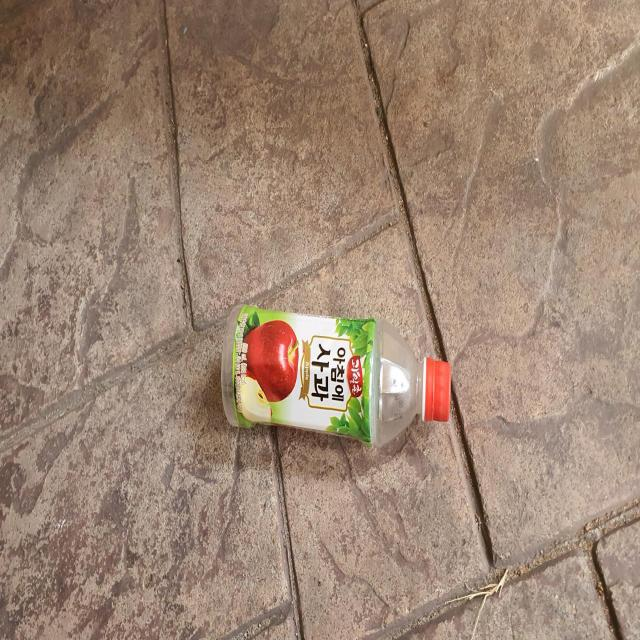plastic: (221, 304, 451, 447)
